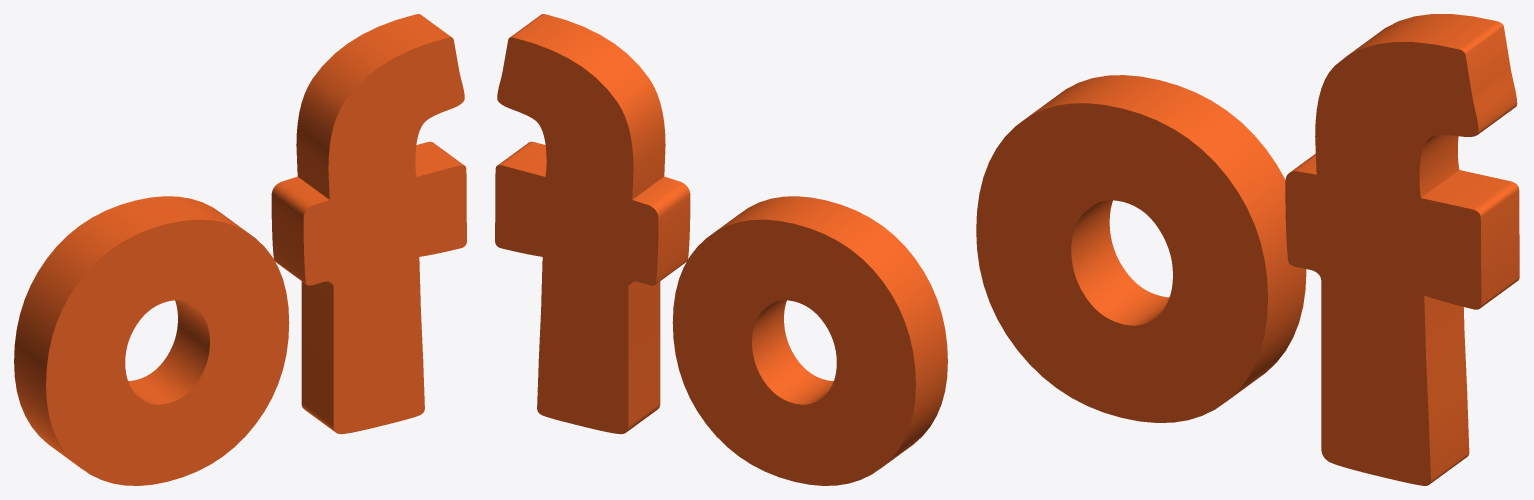
Rendered from Title_o.FBX.
3 views of the same model, side by side, from view 1: azimuth 30°, elevation 25°; view 2: azimuth 150°, elevation 25°; view 3: azimuth 330°, elevation 25° (orthographic). The views are drawn at different scales.
Visible parts, largest first — view 1: Text002; view 2: Text002; view 3: Text002.
Boxes of the visible parts, left/top/right/bottom form: Text002: left=14, top=14, right=466, bottom=485; Text002: left=495, top=14, right=947, bottom=485; Text002: left=976, top=14, right=1519, bottom=485.
Size of the model in its own units: 17.6 by 15.01 by 2.32.
